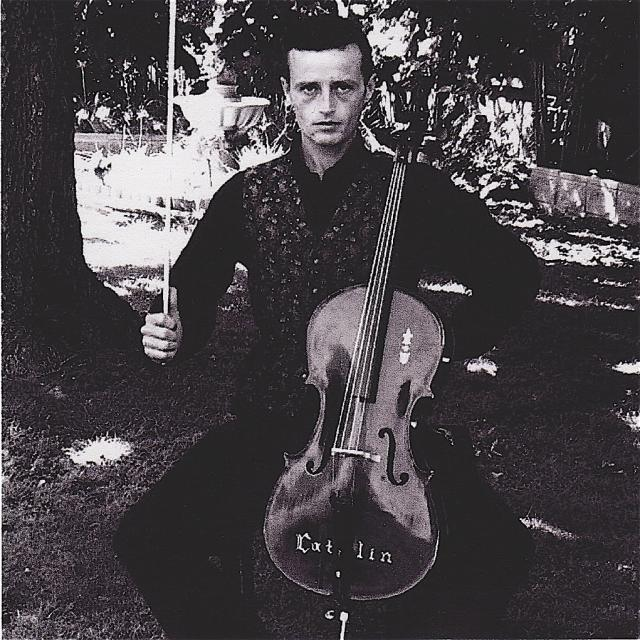cello: (256, 110, 469, 606)
